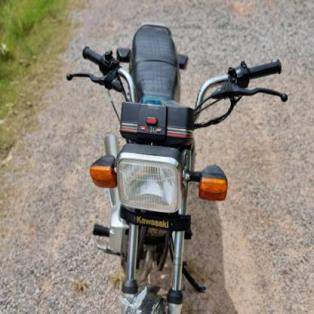Motocicleta: (63, 19, 289, 313)
